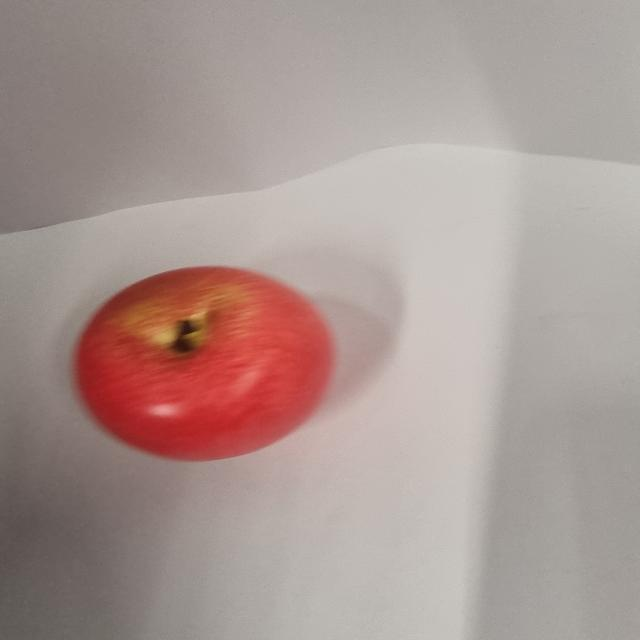apple: (72, 266, 336, 460)
